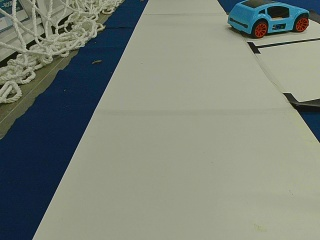car: (228, 2, 310, 37)
